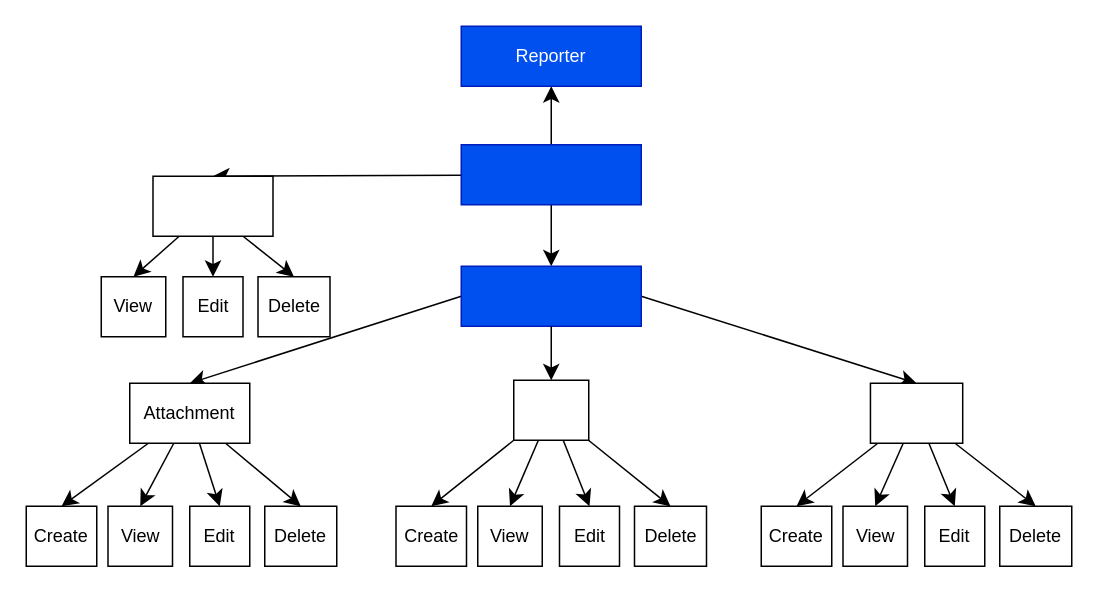
The diagram is 1098 pixels wide and 593 high, and some of its shapes have lost their labels. Here are the shapes that lost their labels. From the top down, the box of each, then its label:
(460, 143, 641, 205): Reviewer
(152, 175, 273, 236): Issue
(460, 265, 641, 326): Assignee
(512, 379, 589, 440): Task
(869, 382, 963, 443): Comment
